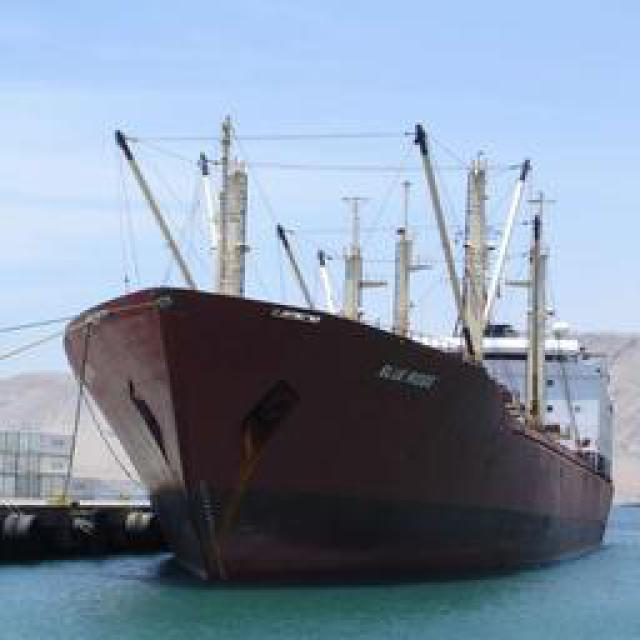Ship: (35, 265, 615, 588)
